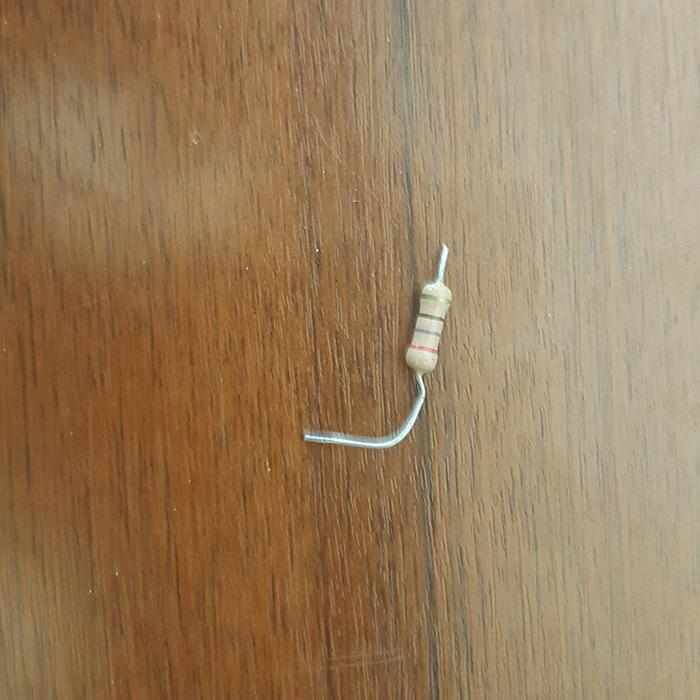resistor: (405, 276, 453, 374)
